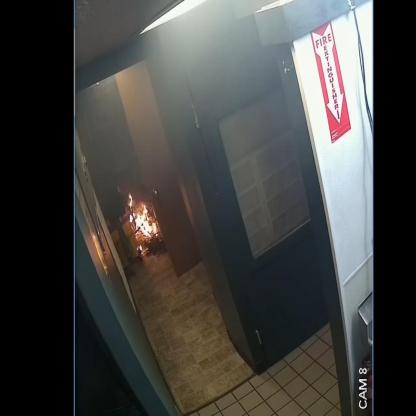fire: (129, 193, 158, 237)
